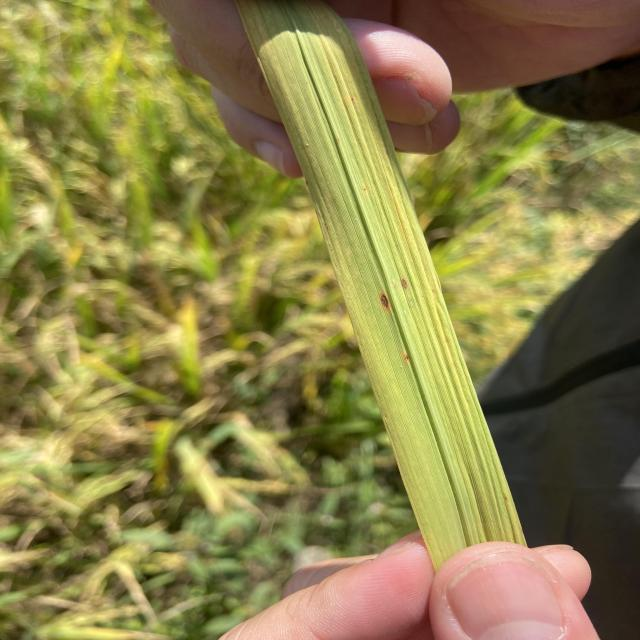Dom nau: (379, 294, 389, 308), (401, 279, 408, 289), (405, 355, 409, 359)
